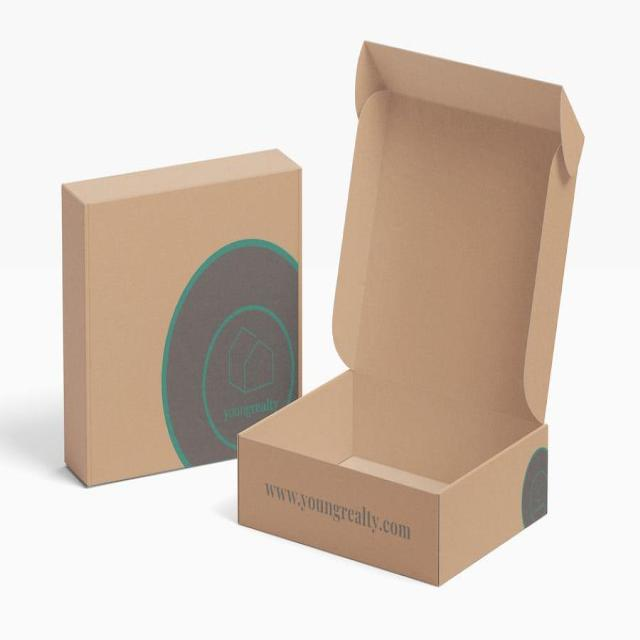Garbage: (229, 21, 593, 592)
Pathole: (48, 142, 320, 505)
